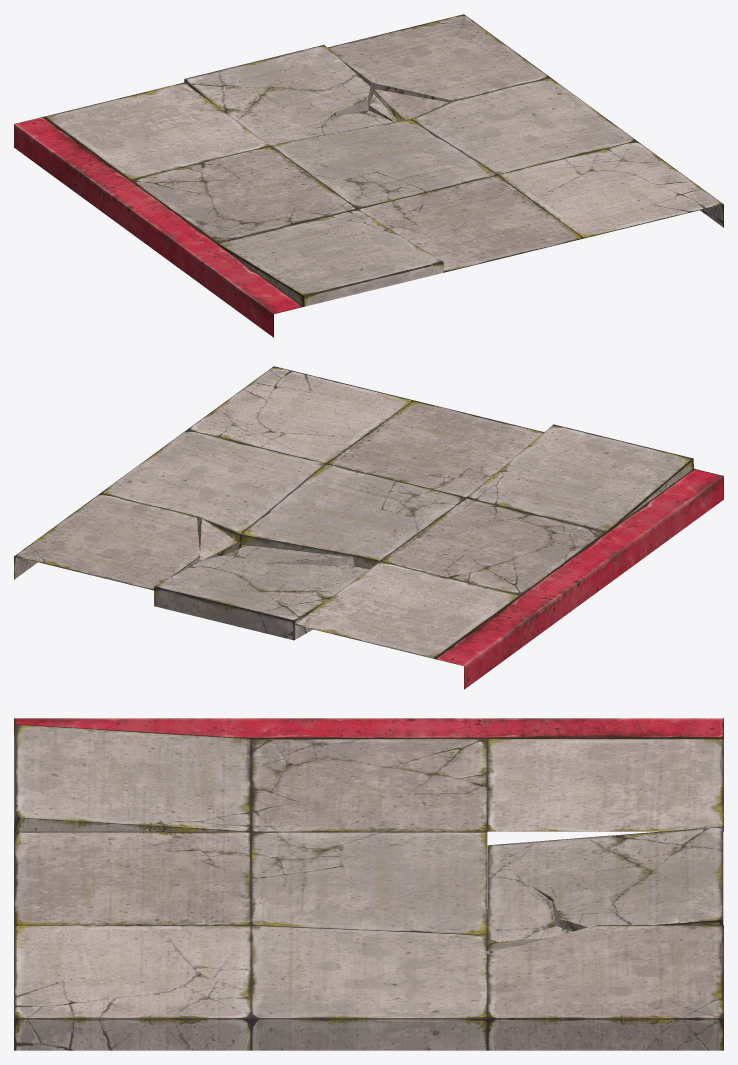
Rendered from sidewalk02_B.fbx.
3 views of the same model, one above another, from view 1: azimuth 30°, elevation 25°; view 2: azimuth 150°, elevation 25°; view 3: azimuth 270°, elevation 25° (orthographic). The views are drawn at different scales.
Parts seen in each view (by area): view 1: sidewalk02_B; view 2: sidewalk02_B; view 3: sidewalk02_B.
Part boxes in pixels (<box>): sidewalk02_B: <box>14,14,723,337</box>; sidewalk02_B: <box>14,366,723,689</box>; sidewalk02_B: <box>14,718,723,1050</box>.
Bounding box in the file's own units: 300 × 32.13 × 300.
